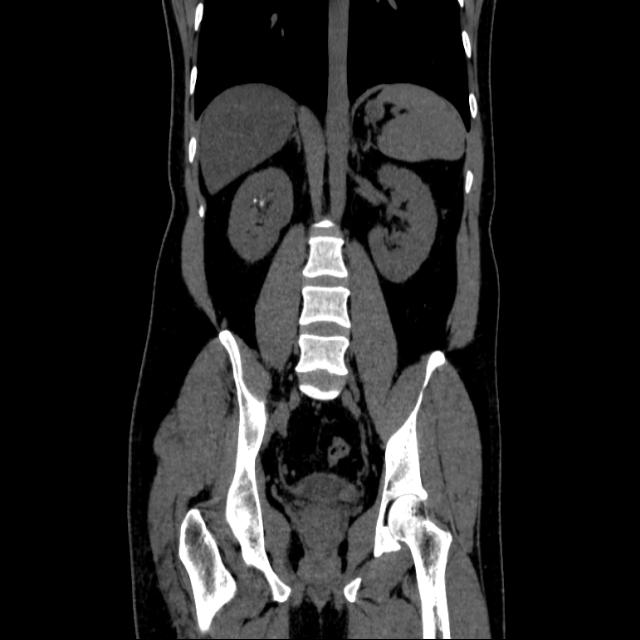kidneystone: (252, 195, 265, 207)
